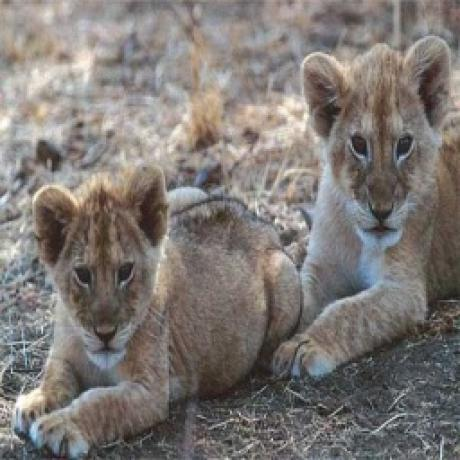Lion: (13, 161, 300, 460), (275, 32, 460, 383)
